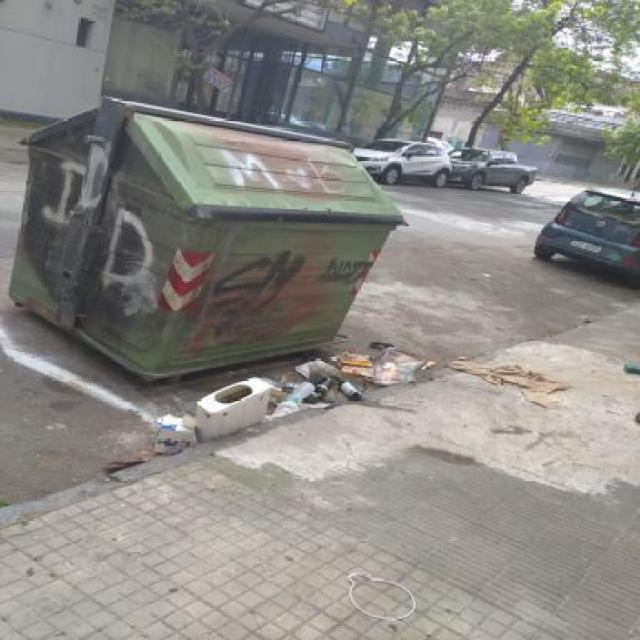garbage: (157, 325, 640, 490), (299, 562, 513, 626)
